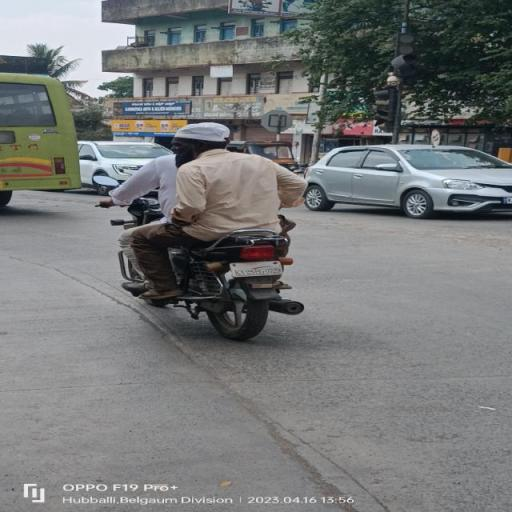bike: (92, 118, 316, 345)
numberplate: (231, 260, 285, 278)
withouthelmet: (175, 124, 231, 154)
